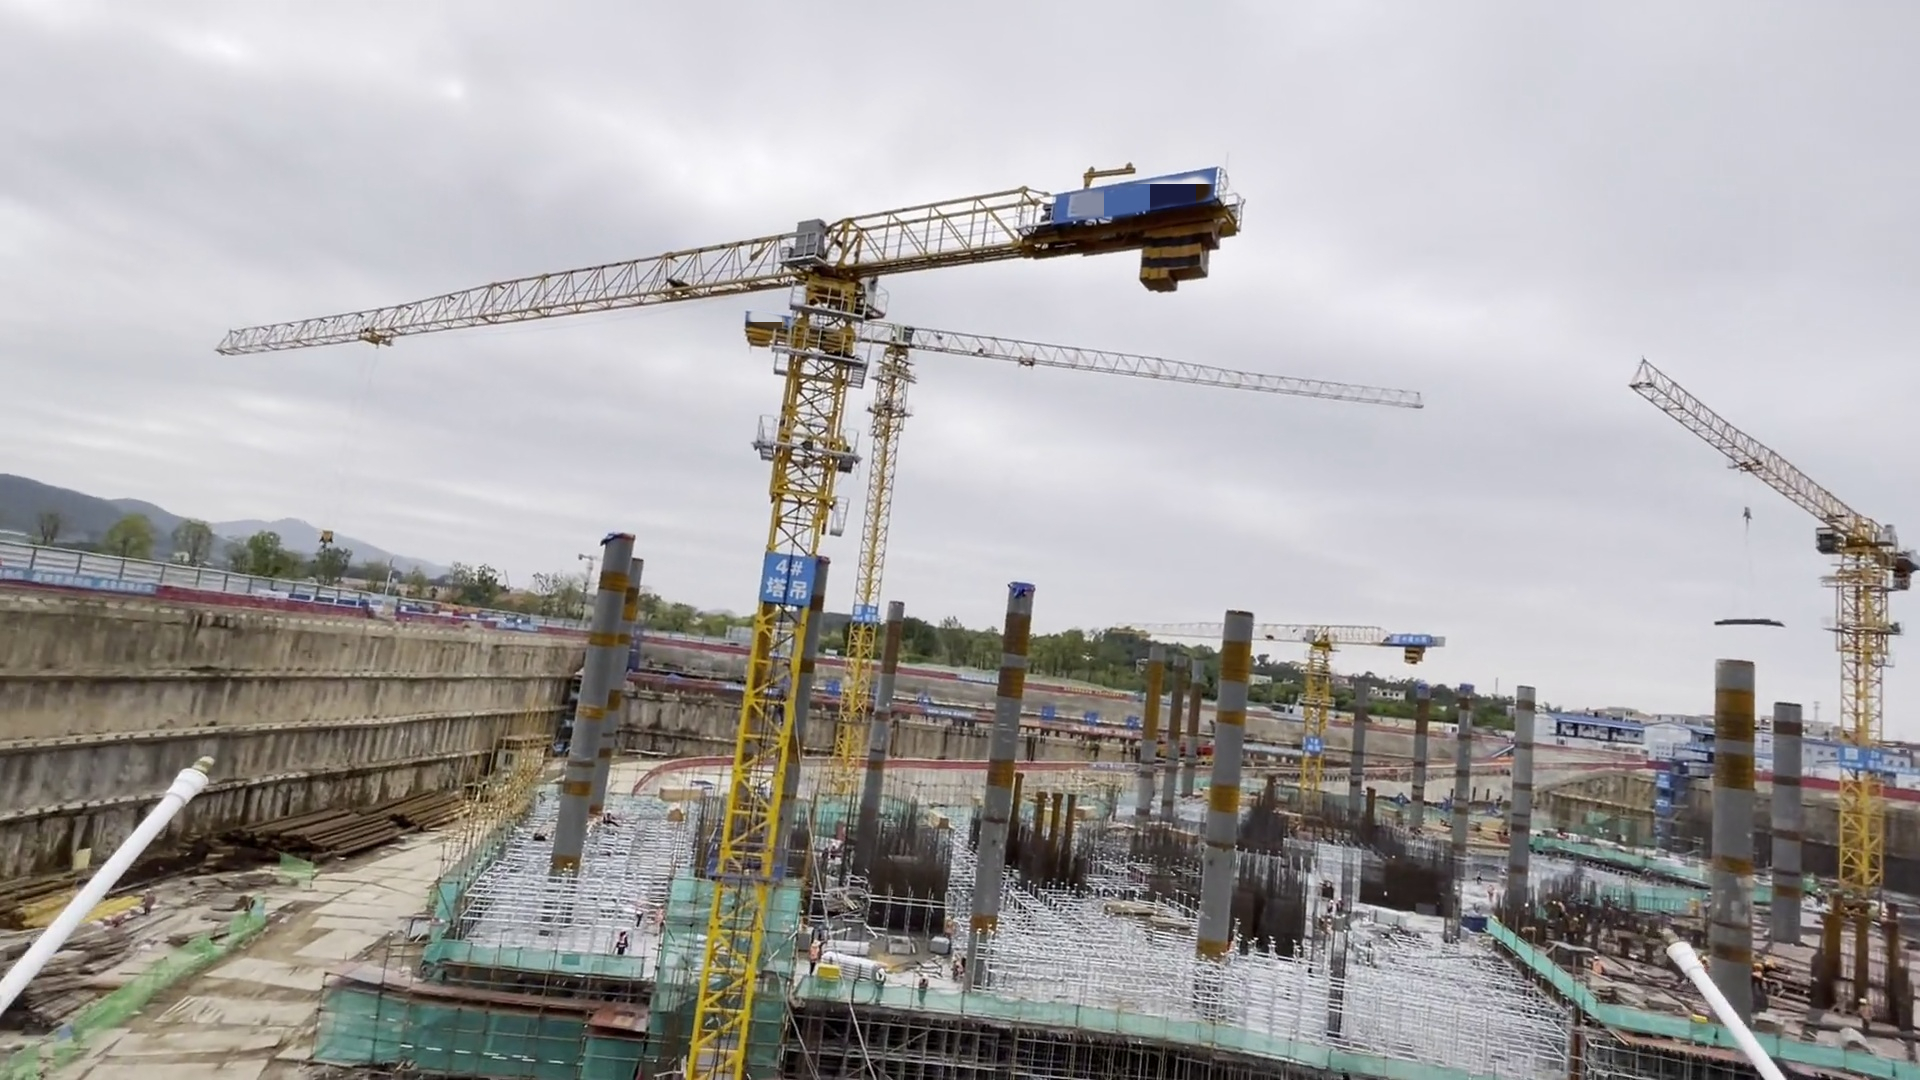hook: (1742, 506, 1753, 522)
person: (805, 939, 823, 977), (918, 973, 932, 1007), (875, 970, 886, 1006)
scaffold: (827, 953, 879, 980), (827, 939, 868, 956), (929, 934, 950, 956)
